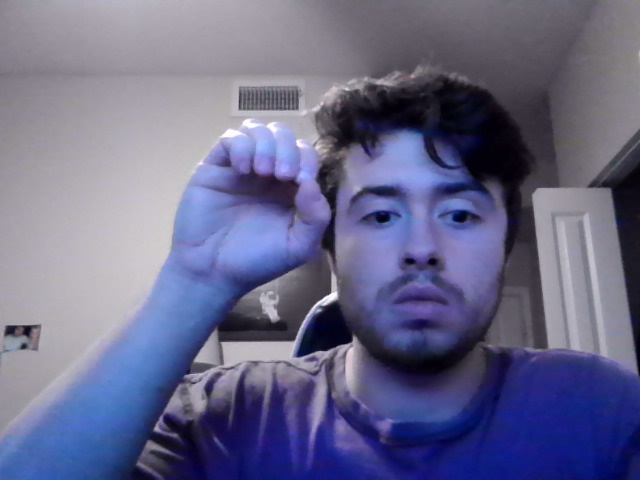o: (169, 117, 332, 311)
